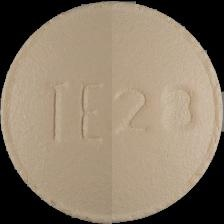12634-967: (0, 0, 224, 224)
